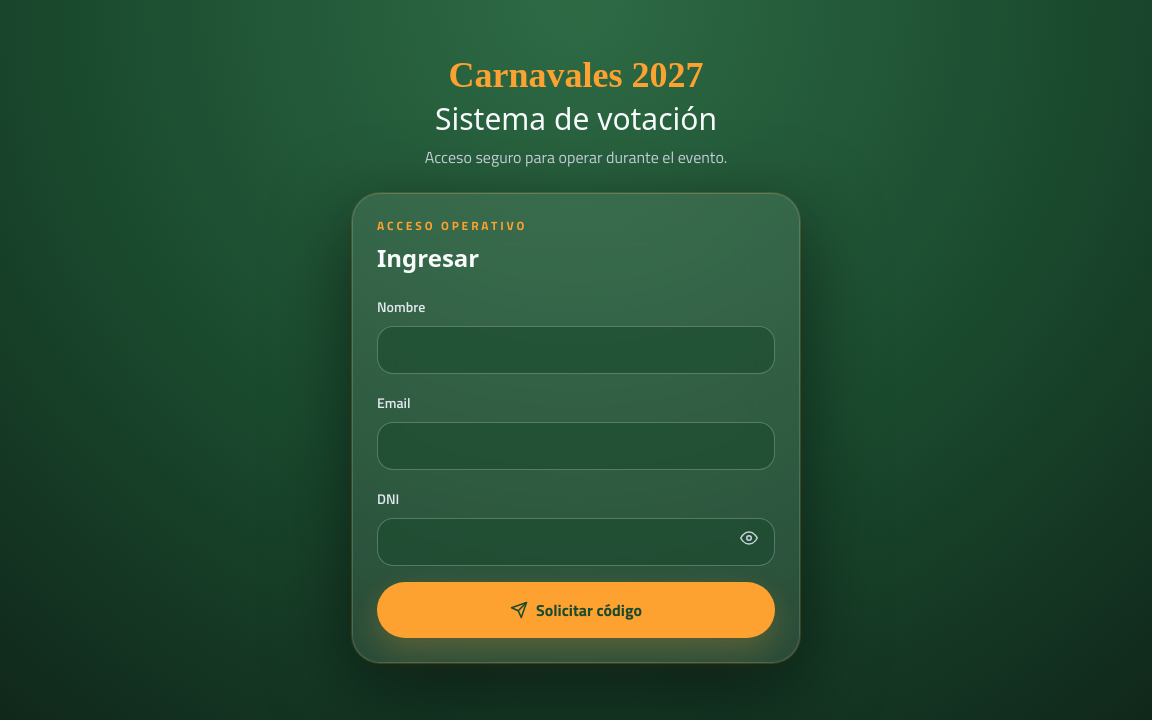
Scenario: LoginPage › requests OTP with name, email and DNI, then shows the OTP modal
Type "Martin Juncos" into the field labelled "Nombre" at (576, 350), box [377, 326, 775, 374]
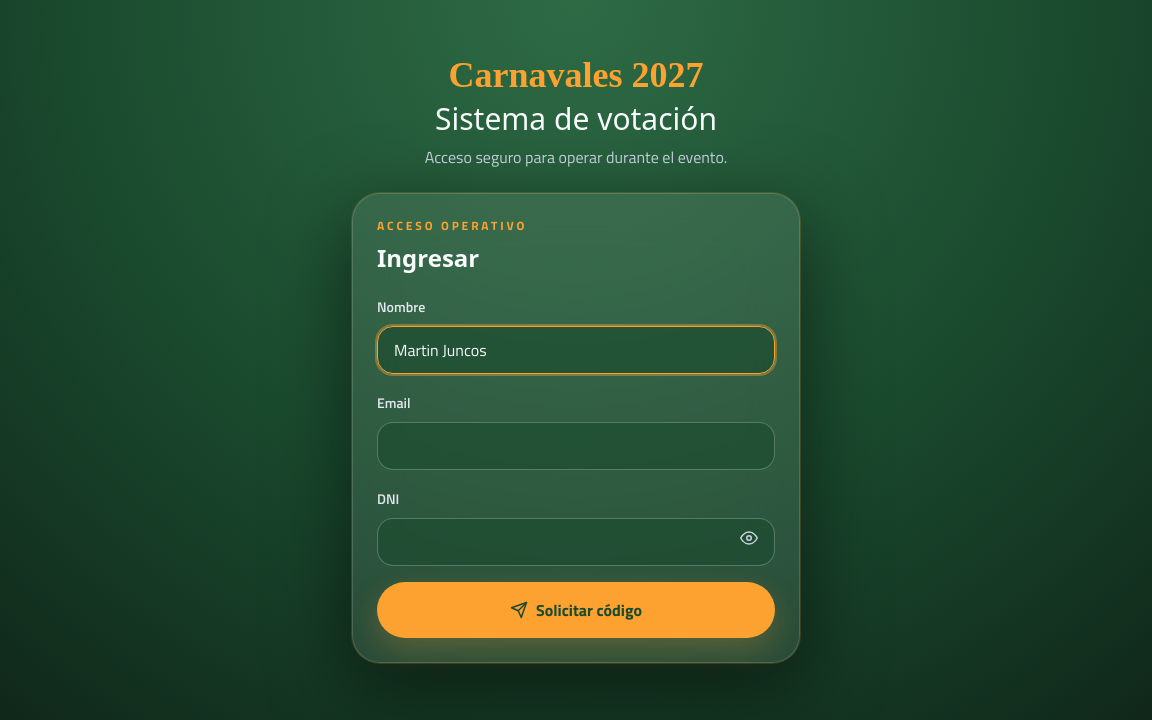
Type "jurado@example.com" into the field labelled "Email" at (576, 446), box [377, 422, 775, 470]
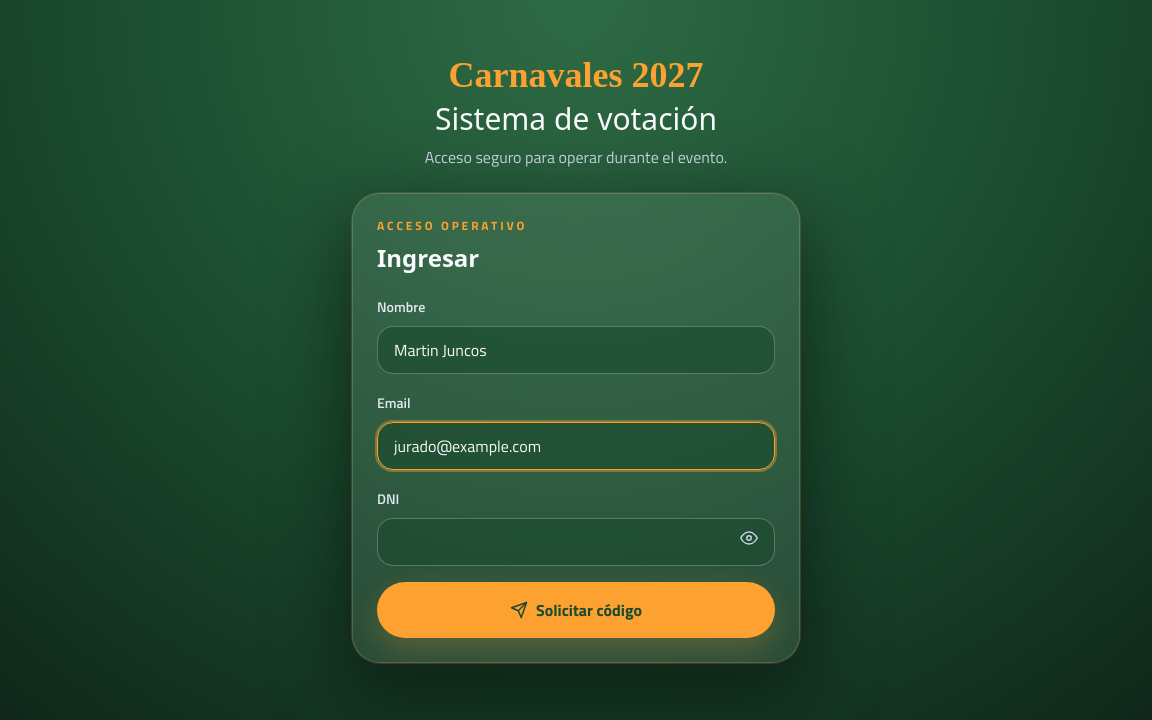
Type "25609038" into the password field labelled "DNI" at (576, 542), box [377, 518, 775, 566]
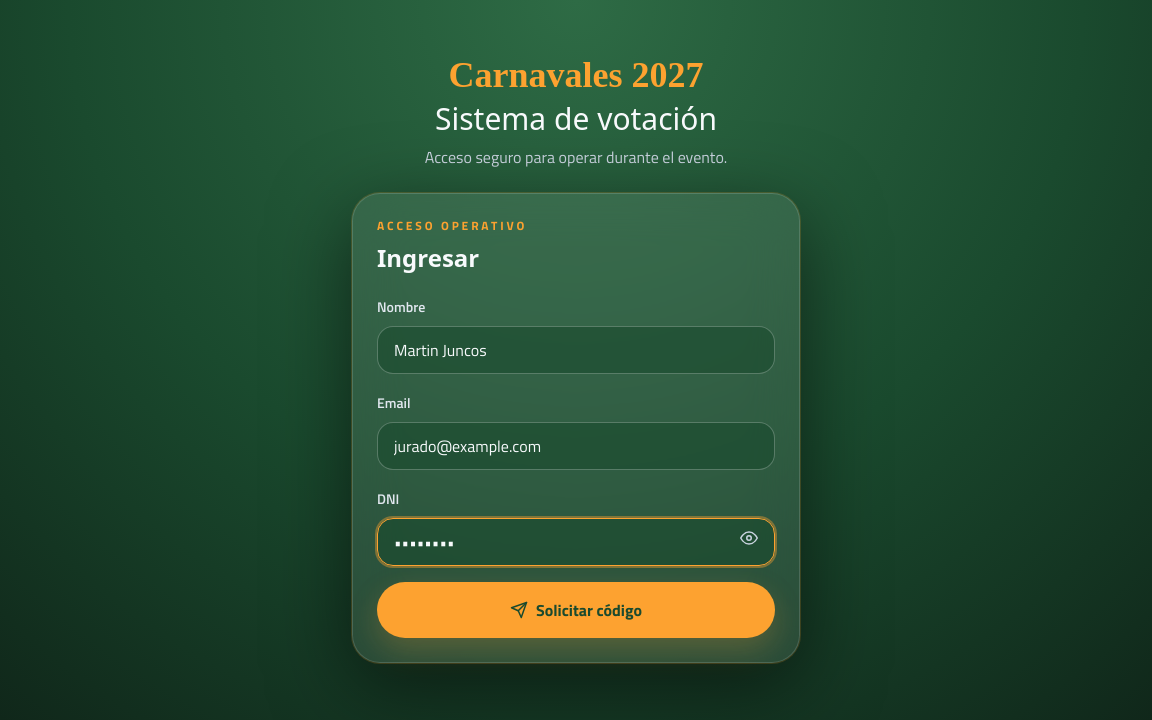
Click the button "Solicitar código" at (576, 610), box [377, 582, 775, 638]
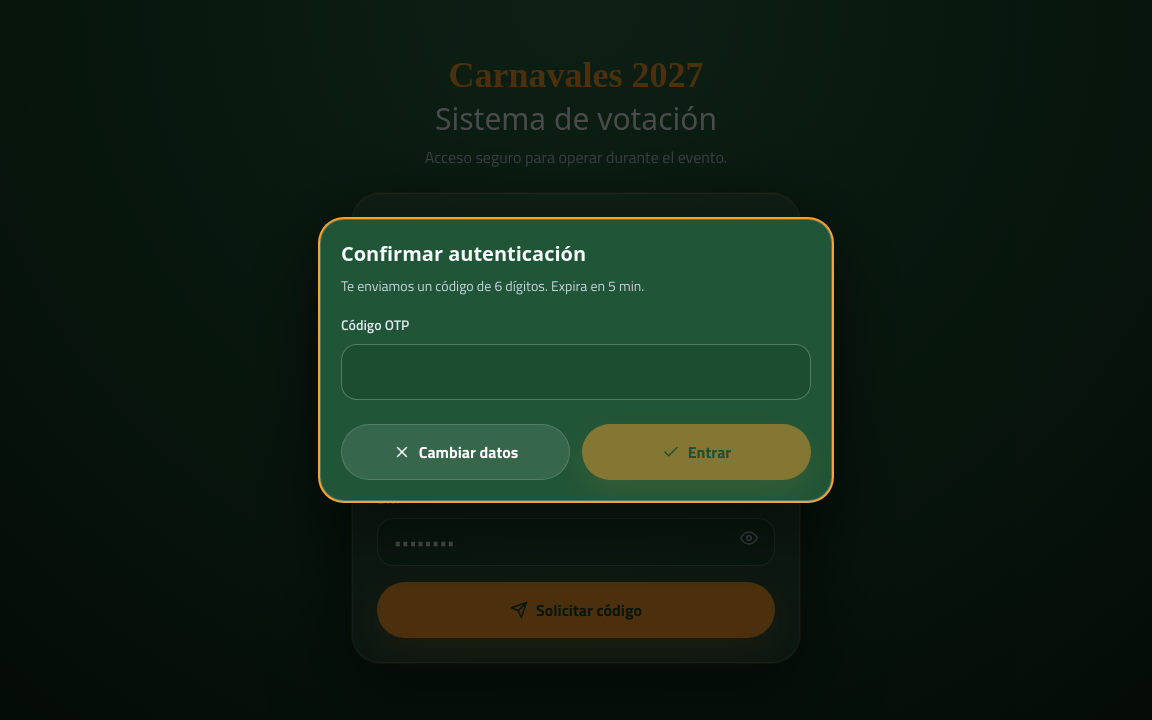
Result: the dialog "Confirmar autenticación" is shown at [320, 219, 832, 501]
